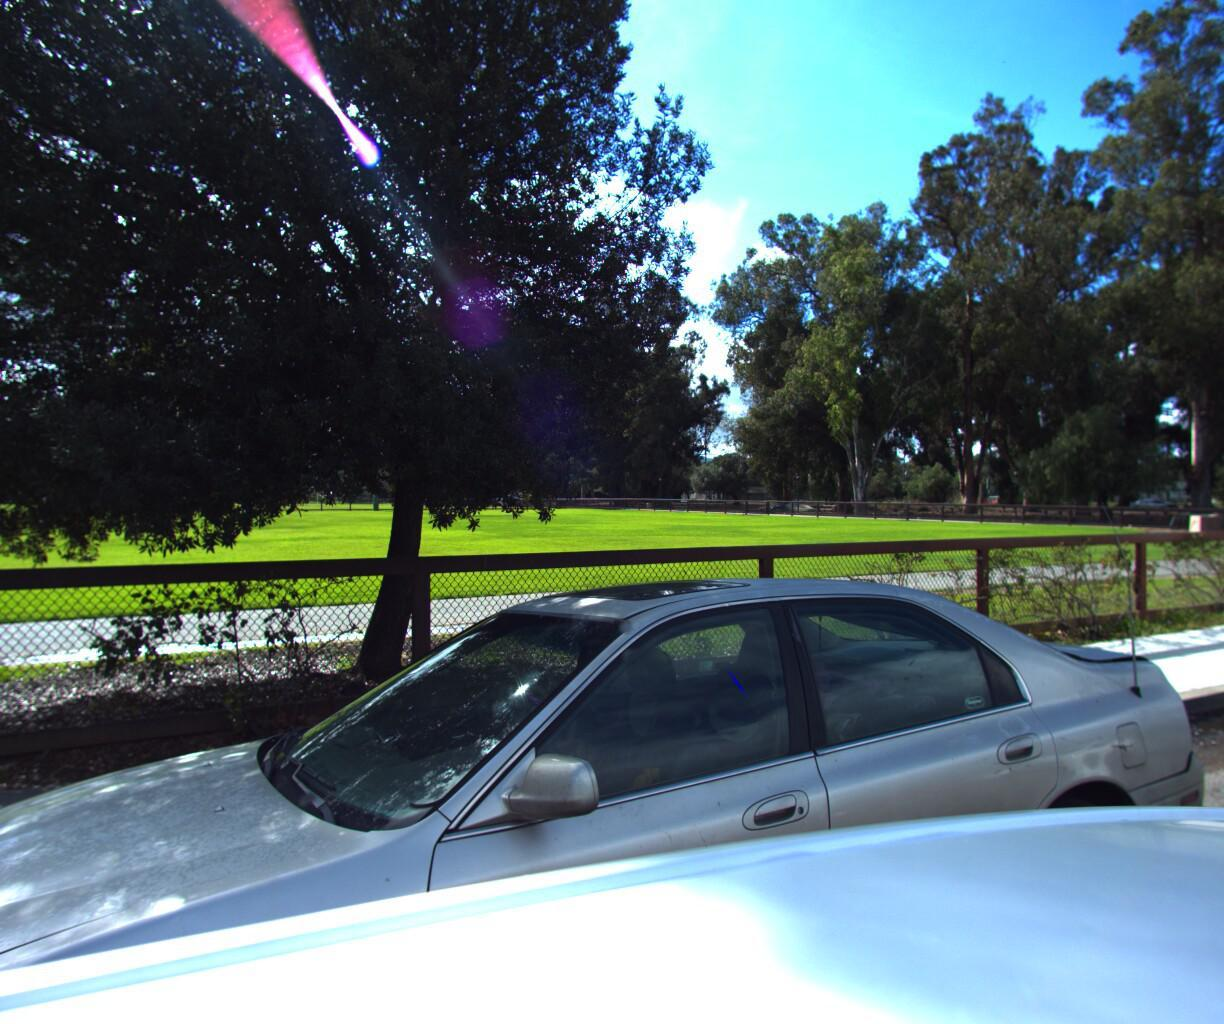car: (0, 522, 1224, 1024)
